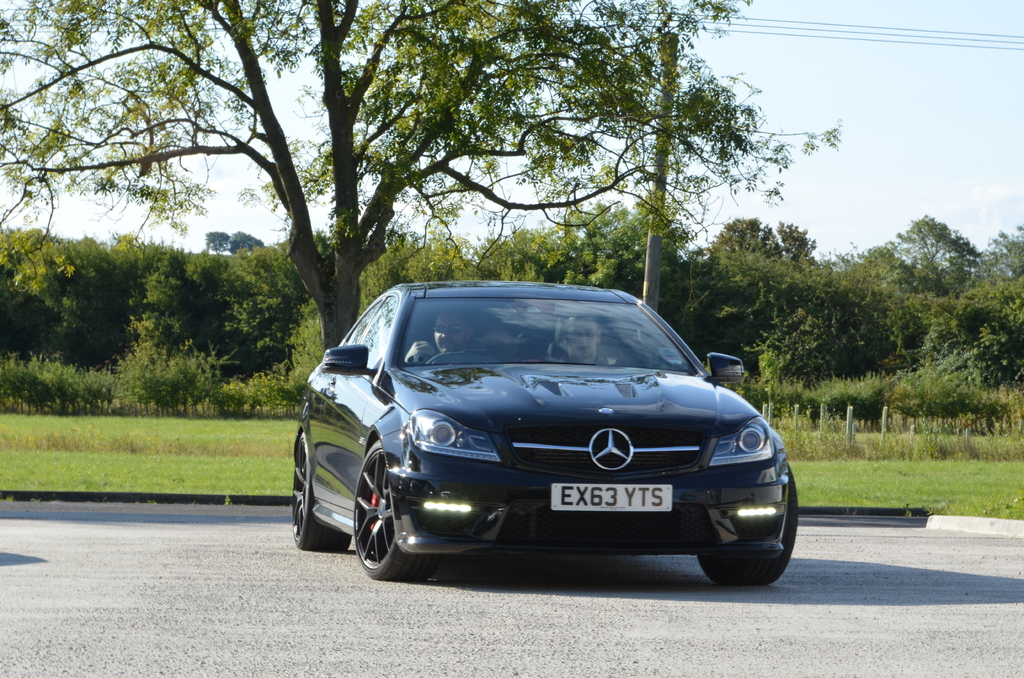Car: (291, 281, 789, 590)
